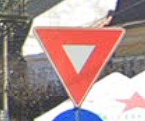cedeaza: (28, 24, 127, 108)
